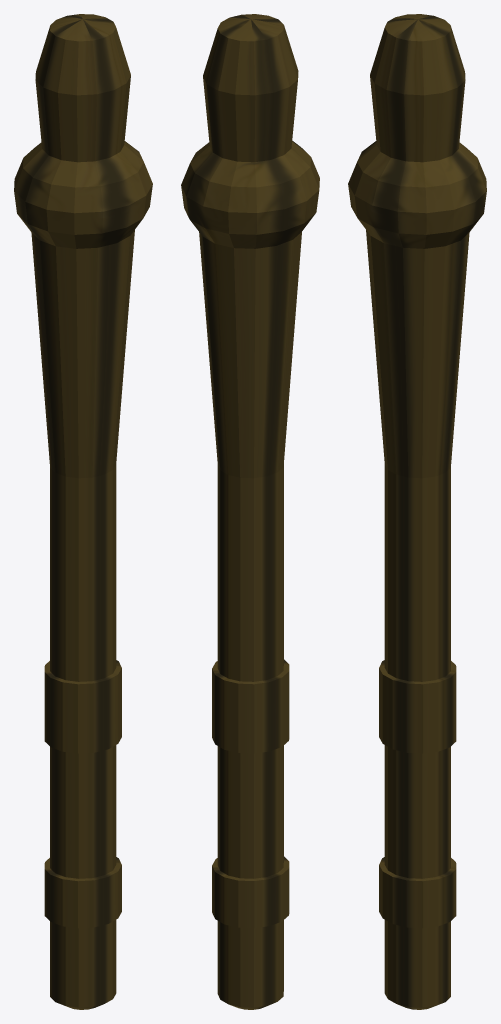
File: Stick.FBX
3 views of the same model, side by side, from view 1: azimuth 30°, elevation 25°; view 2: azimuth 210°, elevation 25°; view 3: azimuth 330°, elevation 25° (orthographic).
Parts seen in each view (by area): view 1: zz; view 2: zz; view 3: zz.
Boxes of the visible parts, <box> form: zz: <box>14,14,152,1009</box>; zz: <box>181,14,319,1009</box>; zz: <box>348,14,486,1009</box>.
Bounding box in the file's own units: 5.65 × 43.45 × 5.36.
1 material, 1 textured.
